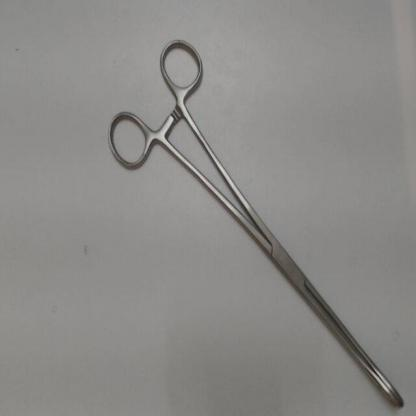Sponge Forceps: (100, 28, 409, 414)
